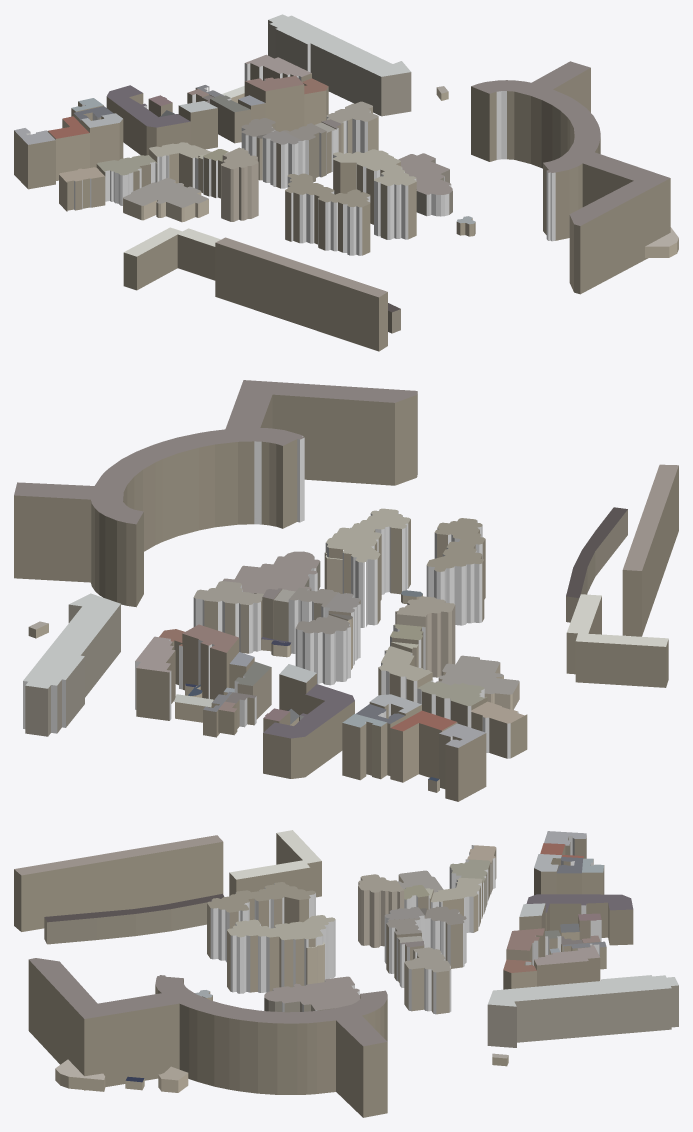
The picture shows the model from 3 angles, top to bottom: view 1: azimuth 30°, elevation 25°; view 2: azimuth 150°, elevation 25°; view 3: azimuth 270°, elevation 25°; orthographic projection. The views are drawn at different scales.
Parts seen in each view (by area): view 1: tuile; view 2: tuile; view 3: tuile.
Boxes of the visible parts, x1,y1,x2,y2 form: tuile: (14,14,678,351); tuile: (14,380,678,801); tuile: (14,830,678,1117).
Size of the model in its own units: 278 by 37.96 by 305.
